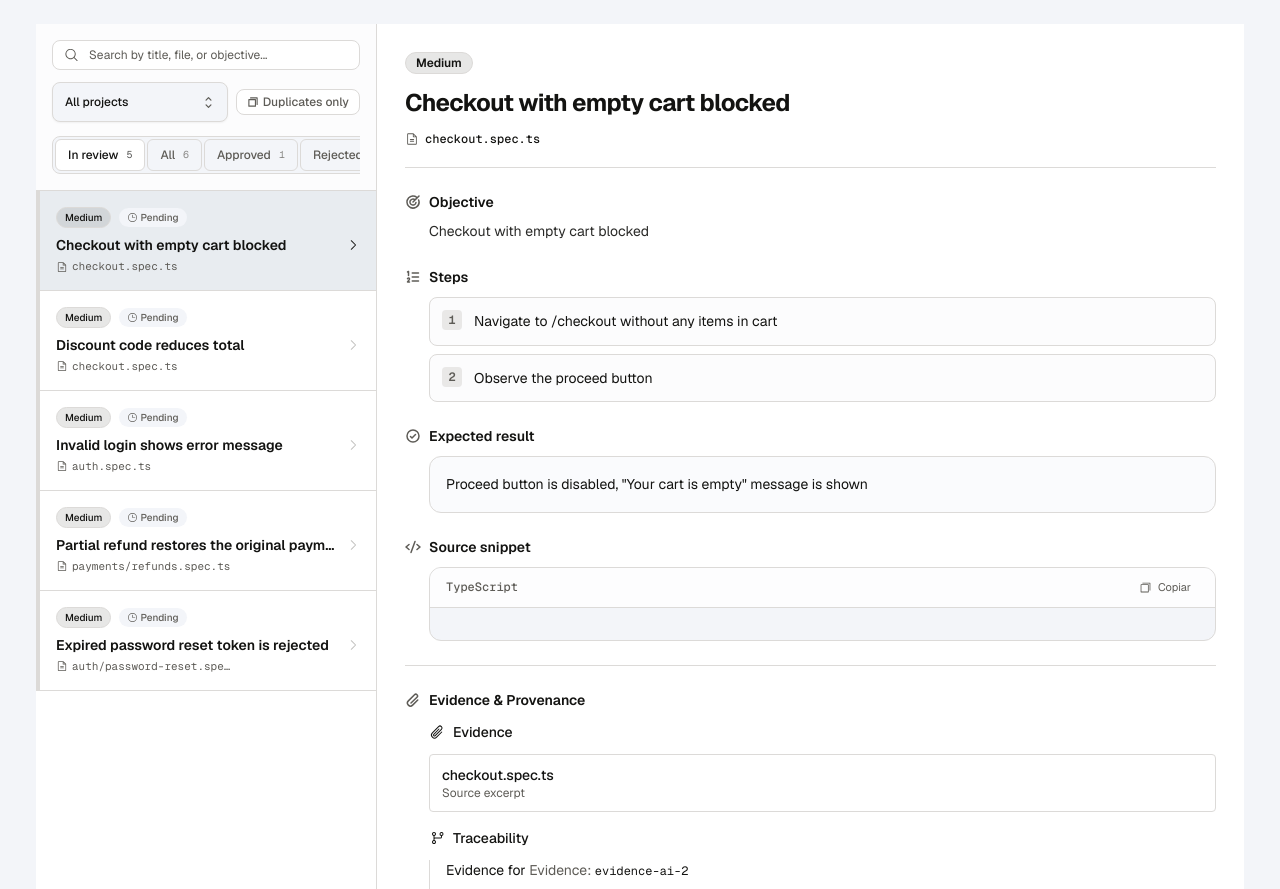
it: ReviewInboxPage › allows filtering proposals by duplicate toggle
Click the button "Duplicates only".
click(298, 102)  # box [236,89,360,115]
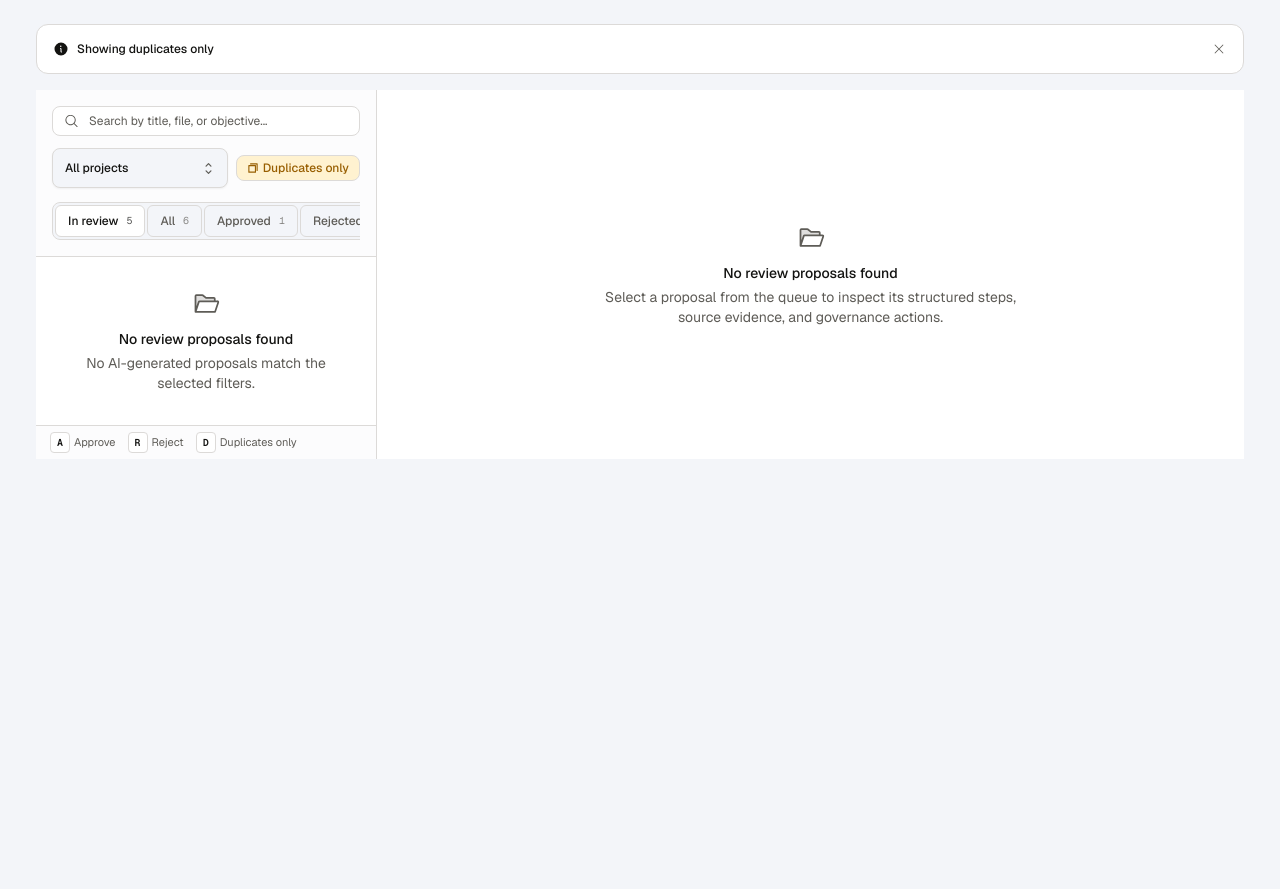
Check: the message reads "Showing duplicates only", box [77,41,214,57]
